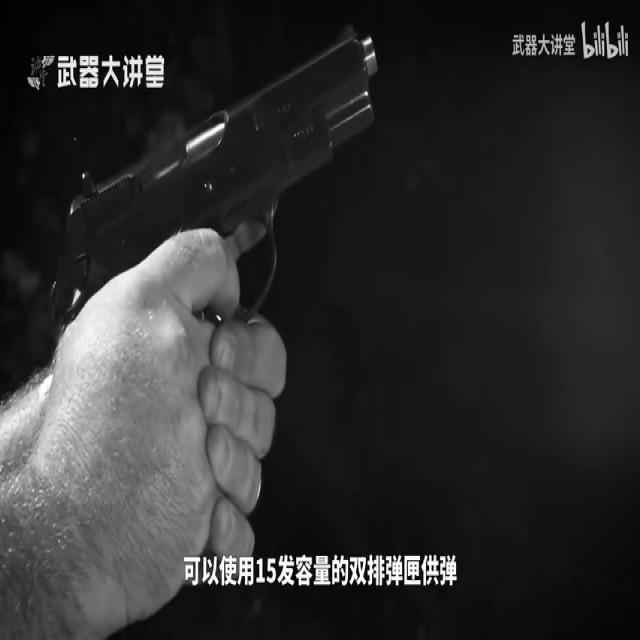Hand-Gun: (0, 0, 414, 513)
